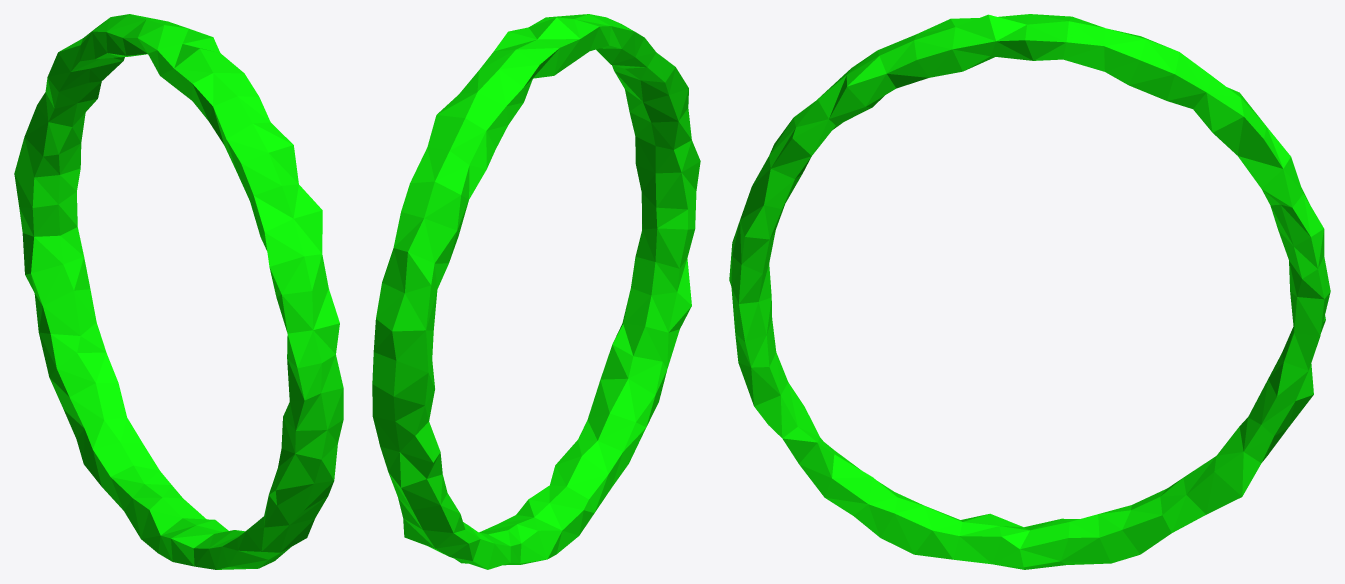
File: Anneau.dae
3 views of the same model, side by side, from view 1: azimuth 30°, elevation 25°; view 2: azimuth 150°, elevation 25°; view 3: azimuth 270°, elevation 25° (orthographic). The views are drawn at different scales.
Visible parts, largest first — view 1: Torus.001; view 2: Torus.001; view 3: Torus.001.
Boxes of the visible parts, x1,y1,x2,y2 form: Torus.001: [14, 14, 343, 569]; Torus.001: [372, 14, 700, 569]; Torus.001: [729, 14, 1330, 569].
Size of the model in its own units: 1.24 by 9.63 by 9.76.
